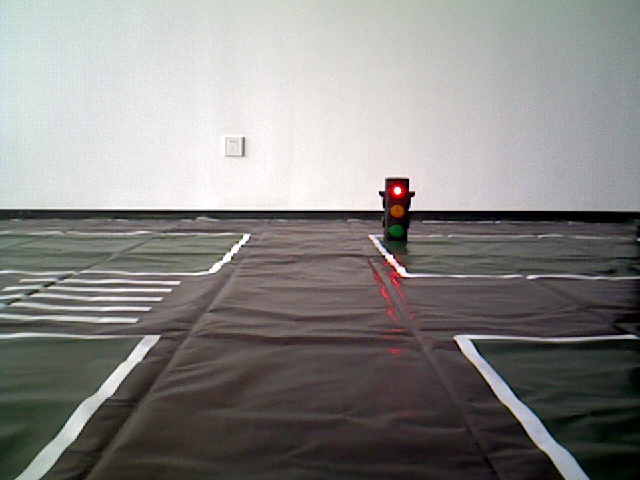red: (383, 183, 406, 244)
